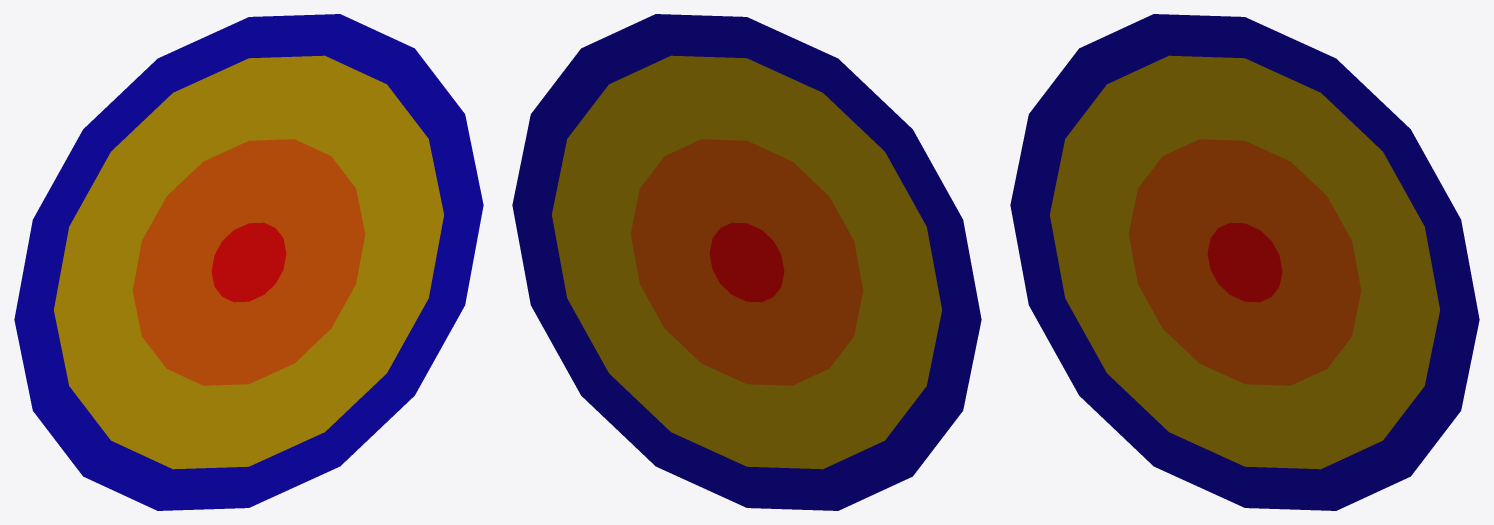
Rendered from CibleTest.fbx.
3 views of the same model, side by side, from view 1: azimuth 30°, elevation 25°; view 2: azimuth 150°, elevation 25°; view 3: azimuth 330°, elevation 25° (orthographic).
Visible parts, largest first — view 1: Circle001; view 2: Circle001; view 3: Circle001.
Part boxes in pixels (x1,y1,x2,y2): Circle001: [14, 14, 483, 510]; Circle001: [512, 14, 981, 510]; Circle001: [1010, 14, 1479, 510].
Bounding box in the file's own units: 187 × 187 × 3.05e-05.
